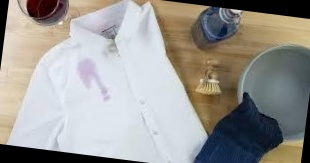wine: (70, 53, 103, 93), (97, 78, 117, 104)
